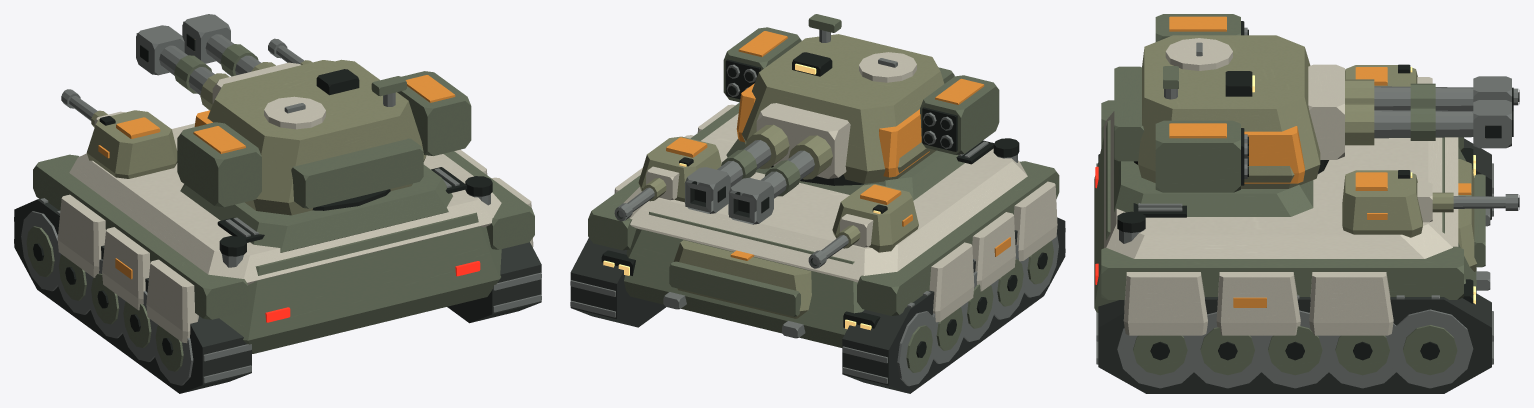
File: boss.glb
3 renders of one model, left to right at view 1: azimuth 30°, elevation 25°; view 2: azimuth 150°, elevation 25°; view 3: azimuth 270°, elevation 25°, orthographic. The views are drawn at different scales.
Parts seen in each view (by area): view 1: boss_hull, boss_main_turret, boss_track_L, boss_rocket_cassettes, boss_aux_L_turret, boss_track_R, boss_main_barrel_L, boss_main_barrel_R, boss_aux_L_gun, boss_main_mantlet, boss_aux_R_gun; view 2: boss_hull, boss_main_turret, boss_track_L, boss_rocket_cassettes, boss_track_R, boss_main_barrel_L, boss_main_barrel_R, boss_aux_L_turret, boss_main_mantlet, boss_aux_R_turret, boss_aux_L_gun, boss_aux_R_gun (+2 smaller); view 3: boss_hull, boss_track_R, boss_main_turret, boss_rocket_cassettes, boss_main_barrel_R, boss_aux_R_turret, boss_main_barrel_L, boss_main_mantlet, boss_aux_R_gun, boss_aux_L_turret, boss_track_L, boss_aux_R_mantlet.
Part boxes in pixels (x1,y1,x2,y2): boss_hull: (33,123,534,353); boss_main_turret: (194,60,426,215); boss_track_L: (14,198,251,393); boss_rocket_cassettes: (177,71,471,207); boss_aux_L_turret: (86,110,177,178); boss_track_R: (447,242,541,323); boss_main_barrel_L: (136,25,229,110); boss_main_barrel_R: (182,14,275,76); boss_aux_L_gun: (61,89,107,127); boss_main_mantlet: (212,62,300,104); boss_aux_R_gun: (268,38,312,64); boss_hull: (588,102,1059,347); boss_main_turret: (736,14,954,185); boss_track_L: (842,217,1065,393); boss_rocket_cassettes: (723,27,999,154); boss_track_R: (570,238,665,327); boss_main_barrel_L: (728,135,832,224); boss_main_barrel_R: (685,124,789,213); boss_aux_L_turret: (832,184,918,252); boss_main_mantlet: (756,103,850,178); boss_aux_R_turret: (638,136,721,202); boss_aux_L_gun: (808,225,860,268); boss_aux_R_gun: (614,178,666,221); boss_hull: (1094,100,1490,335); boss_track_R: (1096,293,1493,393); boss_main_turret: (1114,35,1328,188); boss_rocket_cassettes: (1155,14,1248,192); boss_main_barrel_R: (1345,100,1513,148); boss_aux_R_turret: (1342,170,1422,237); boss_main_barrel_L: (1345,76,1513,111); boss_main_mantlet: (1308,64,1344,159); boss_aux_R_gun: (1432,192,1519,212); boss_aux_L_turret: (1345,64,1417,86); boss_track_L: (1096,138,1493,219); boss_aux_R_mantlet: (1417,182,1432,222).
Size of the model in its own units: 1.49 by 1.01 by 1.49.
Materials: 1 (1 with a texture image).
